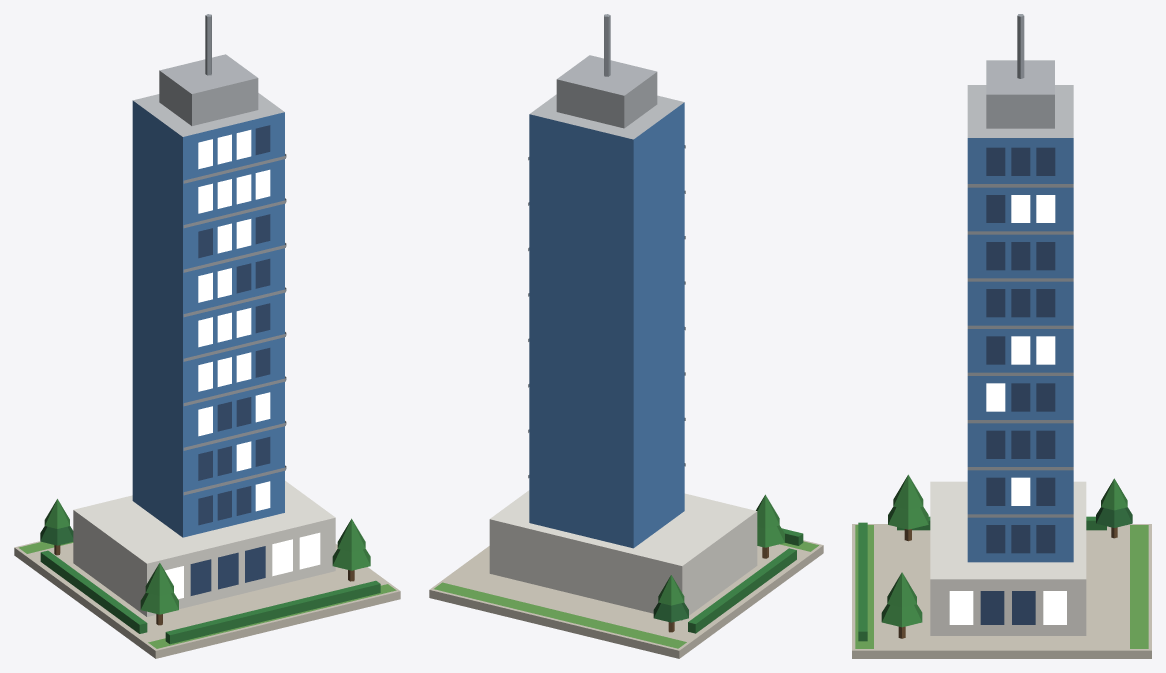
3 renders of one model, left to right at view 1: azimuth 30°, elevation 25°; view 2: azimuth 150°, elevation 25°; view 3: azimuth 270°, elevation 25°, orthographic. The views are drawn at different scales.
Visible parts, largest first — view 1: b20; view 2: b20; view 3: b20.
Part boxes in pixels (x1=…): b20: x1=14, y1=14, x2=400, y2=658; b20: x1=429, y1=14, x2=823, y2=658; b20: x1=852, y1=14, x2=1151, y2=658.
Size of the model in its own units: 0.96 by 2.07 by 0.96.
